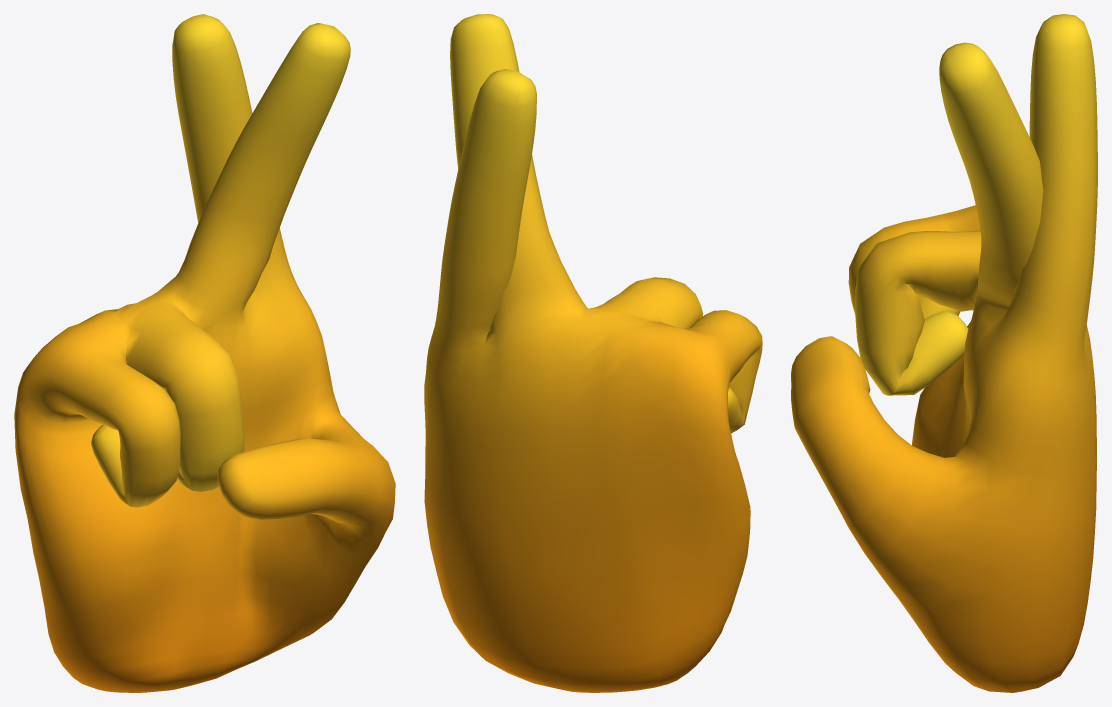
Rendered from crossed_fingers.fbx.
The picture shows the model from 3 angles, left to right: view 1: azimuth 30°, elevation 25°; view 2: azimuth 150°, elevation 25°; view 3: azimuth 270°, elevation 25°; orthographic projection. The views are drawn at different scales.
Visible parts, largest first — view 1: hand.025; view 2: hand.025; view 3: hand.025.
Part boxes in pixels (bbox=[...]): hand.025: bbox=[14, 14, 395, 692]; hand.025: bbox=[424, 14, 762, 692]; hand.025: bbox=[791, 14, 1097, 692].
Size of the model in its own units: 104 by 196 by 81.32.
1 material, 1 textured.
